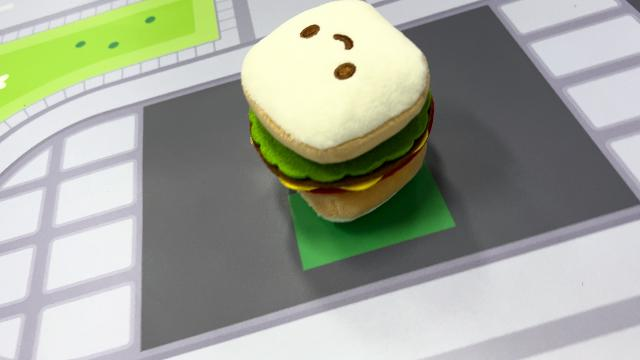sandwich: (238, 0, 438, 224)
